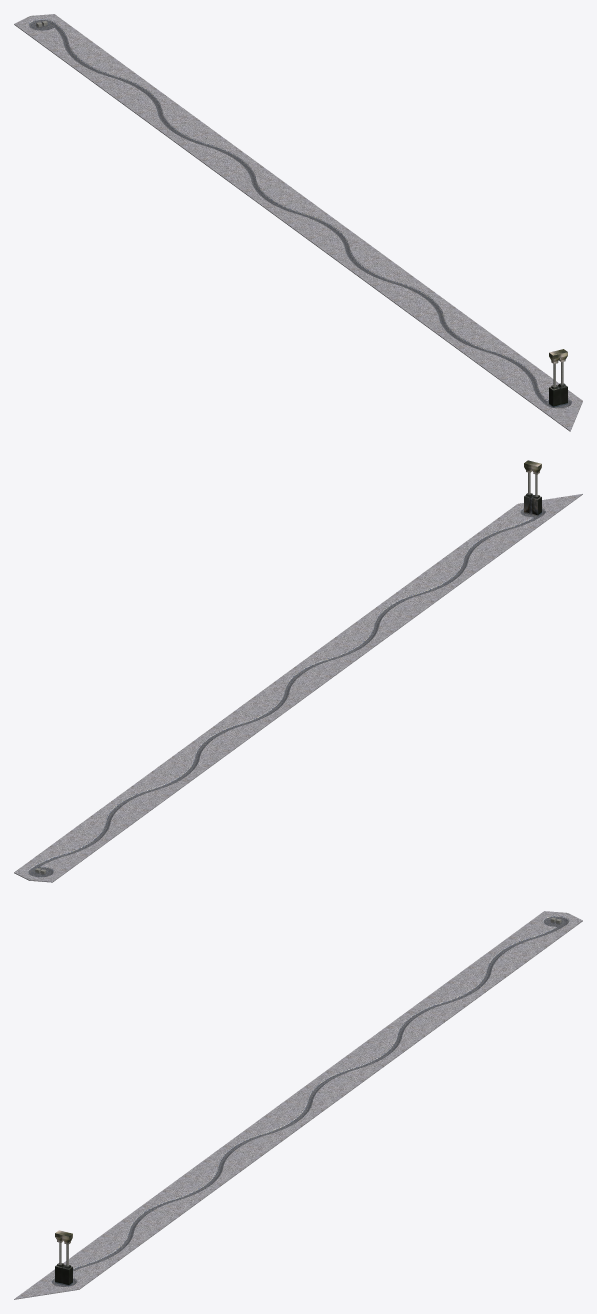
The model's file is preview.glb.
The picture shows the model from 3 angles, top to bottom: view 1: azimuth 30°, elevation 25°; view 2: azimuth 150°, elevation 25°; view 3: azimuth 330°, elevation 25°; orthographic projection. The views are drawn at different scales.
Visible parts, largest first — view 1: Material3, Material2 (×2); view 2: Material3, Material2 (×2); view 3: Material3, Material2 (×2).
Boxes of the visible parts, bbox=[...] form: Material3: bbox=[14, 14, 582, 431]; Material2 (×2): bbox=[28, 19, 571, 408]; Material3: bbox=[14, 494, 582, 882]; Material2 (×2): bbox=[27, 507, 545, 877]; Material3: bbox=[14, 911, 582, 1299]; Material2 (×2): bbox=[51, 915, 569, 1286].
Bounding box in the file's own units: 86.55 × 110 × 2067.
Materials: 8 (7 with a texture image).
